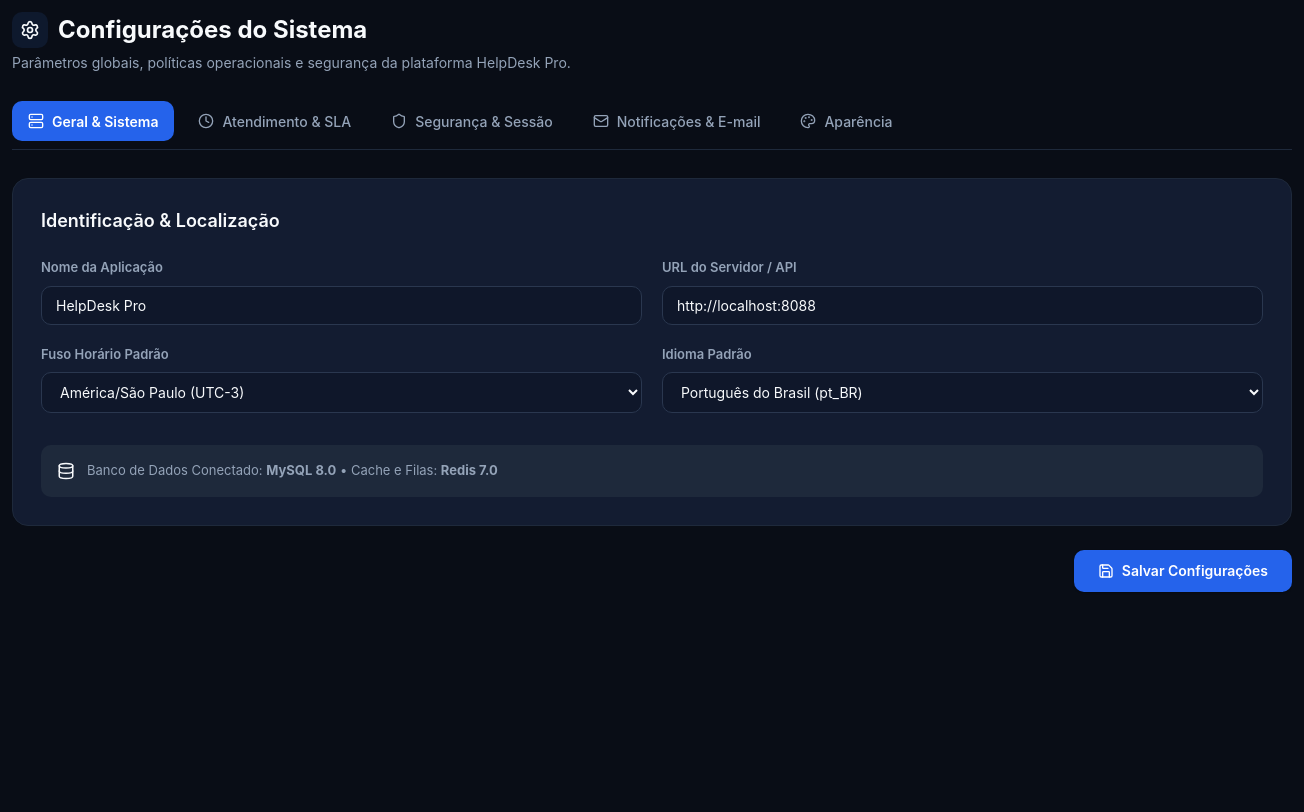
Scenario: SettingsPage › permite alternar entre as abas de configuração
# Alterna para Atendimento & SLA
Click the button "Atendimento & SLA" at {"x": 275, "y": 121}, box x1=182 y1=101 x2=367 y2=141
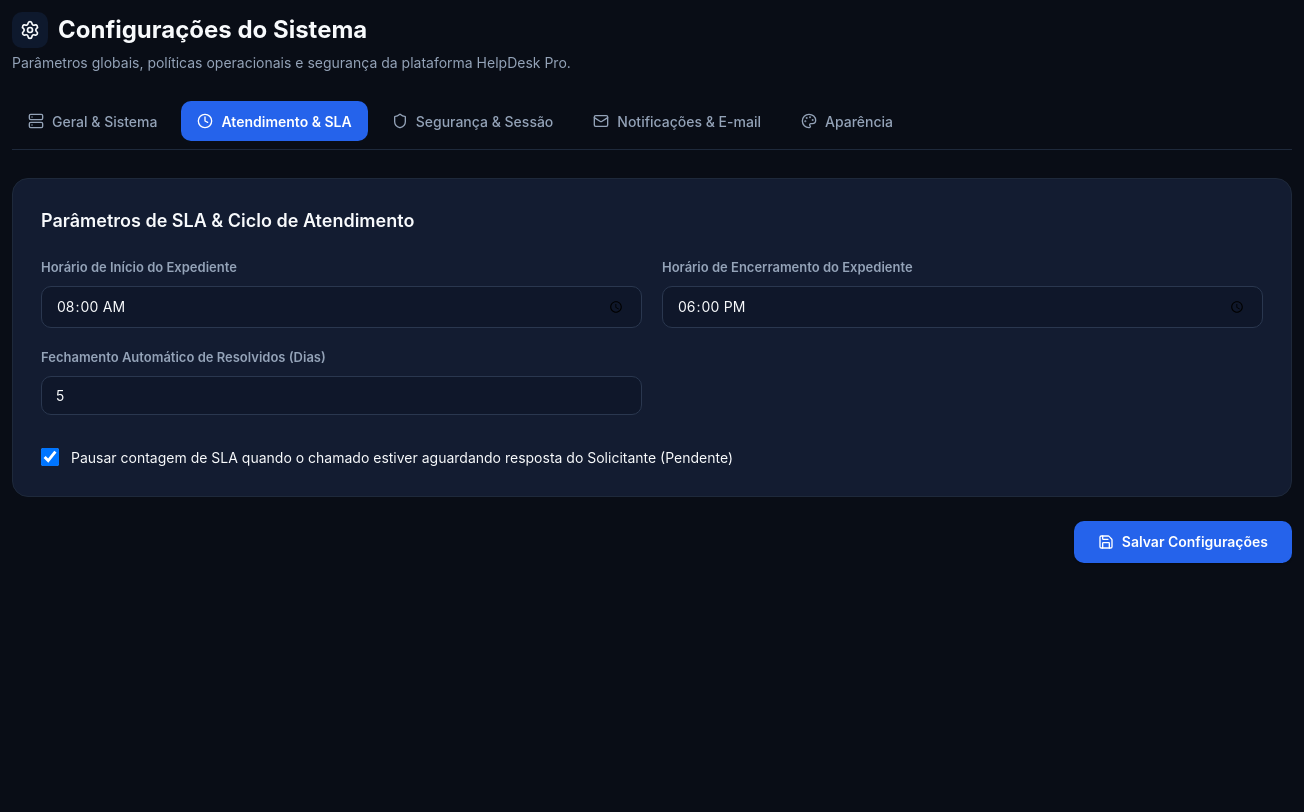
Expected: the heading "Parâmetros de SLA & Ciclo de Atendimento" is shown, x1=41 y1=210 x2=414 y2=231
Expected: the time field showing "08:00" below "Horário de Início do Expediente" is shown, x1=41 y1=286 x2=642 y2=328
Expected: the time field showing "18:00" below "Horário de Encerramento do Expediente" is shown, x1=662 y1=286 x2=1263 y2=328
# Alterna para Segurança & Sessão
Click the button "Segurança & Sessão" at {"x": 472, "y": 121}, box x1=376 y1=101 x2=569 y2=141
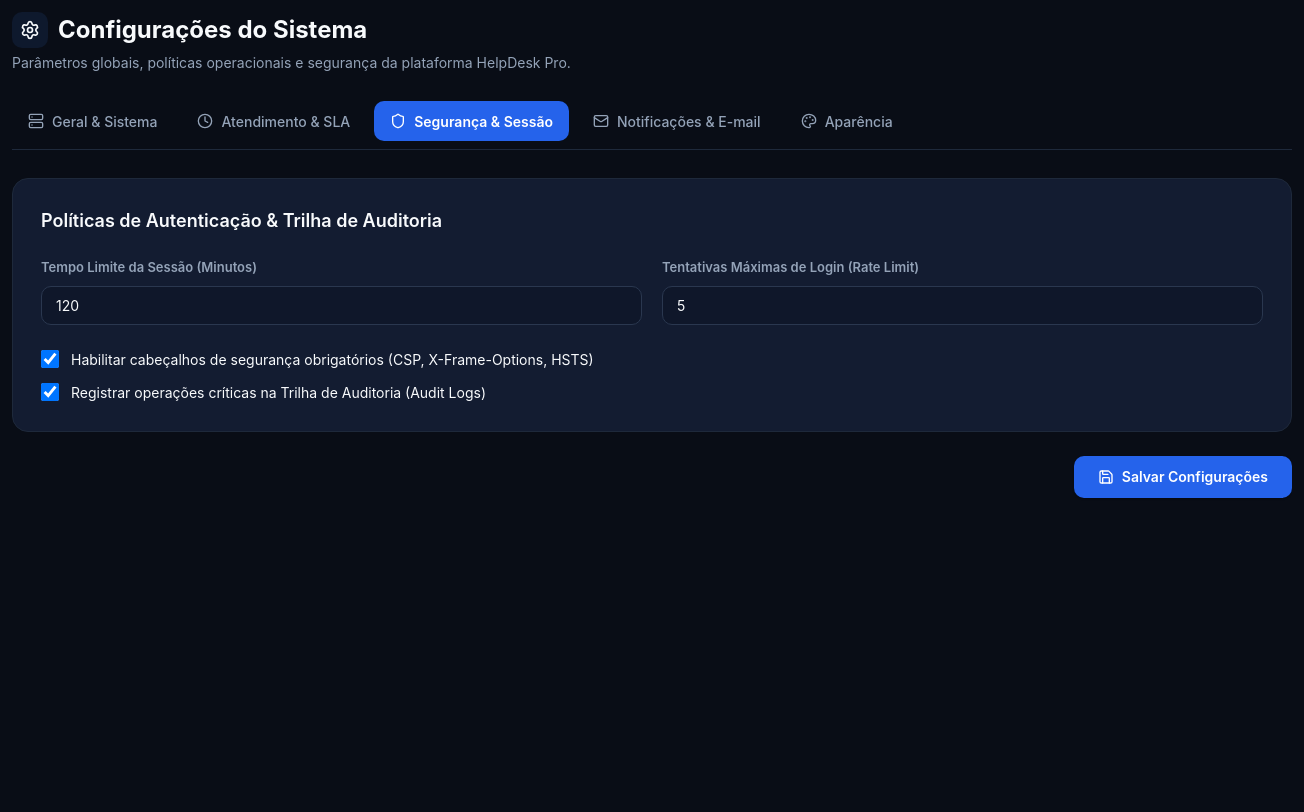
Expected: the heading "Políticas de Autenticação & Trilha de Auditoria" is shown, x1=41 y1=210 x2=442 y2=231
Expected: the number field showing "120" below "Tempo Limite da Sessão (Minutos)" is shown, x1=41 y1=286 x2=642 y2=324
# Alterna para Notificações & E-mail
Click the button "Notificações & E-mail" at {"x": 677, "y": 121}, box x1=577 y1=101 x2=777 y2=141
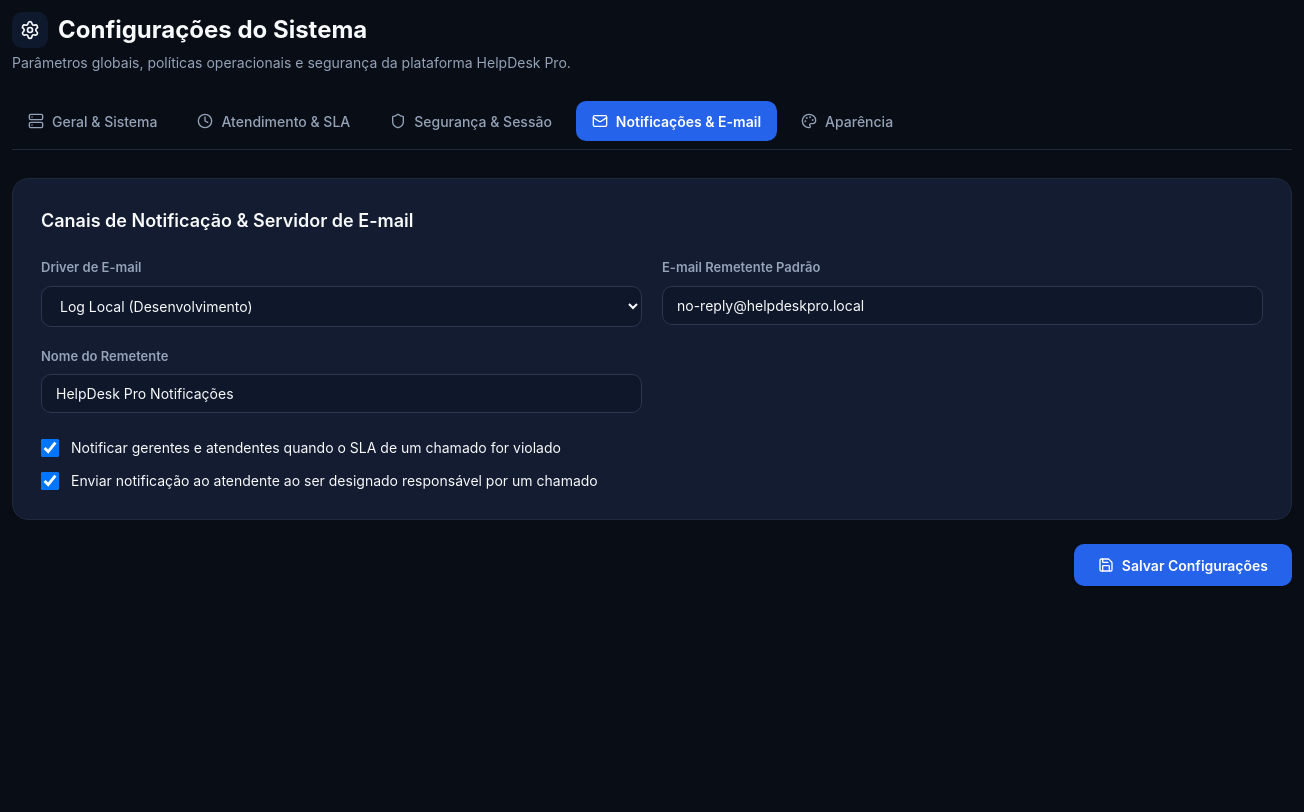
Expected: the heading "Canais de Notificação & Servidor de E-mail" is shown, x1=41 y1=210 x2=414 y2=231
Expected: the field showing "no-reply@helpdeskpro.local" below "E-mail Remetente Padrão" is shown, x1=662 y1=286 x2=1263 y2=324
# Alterna para Aparência
Click the button "Aparência" at {"x": 847, "y": 121}, box x1=785 y1=101 x2=909 y2=141
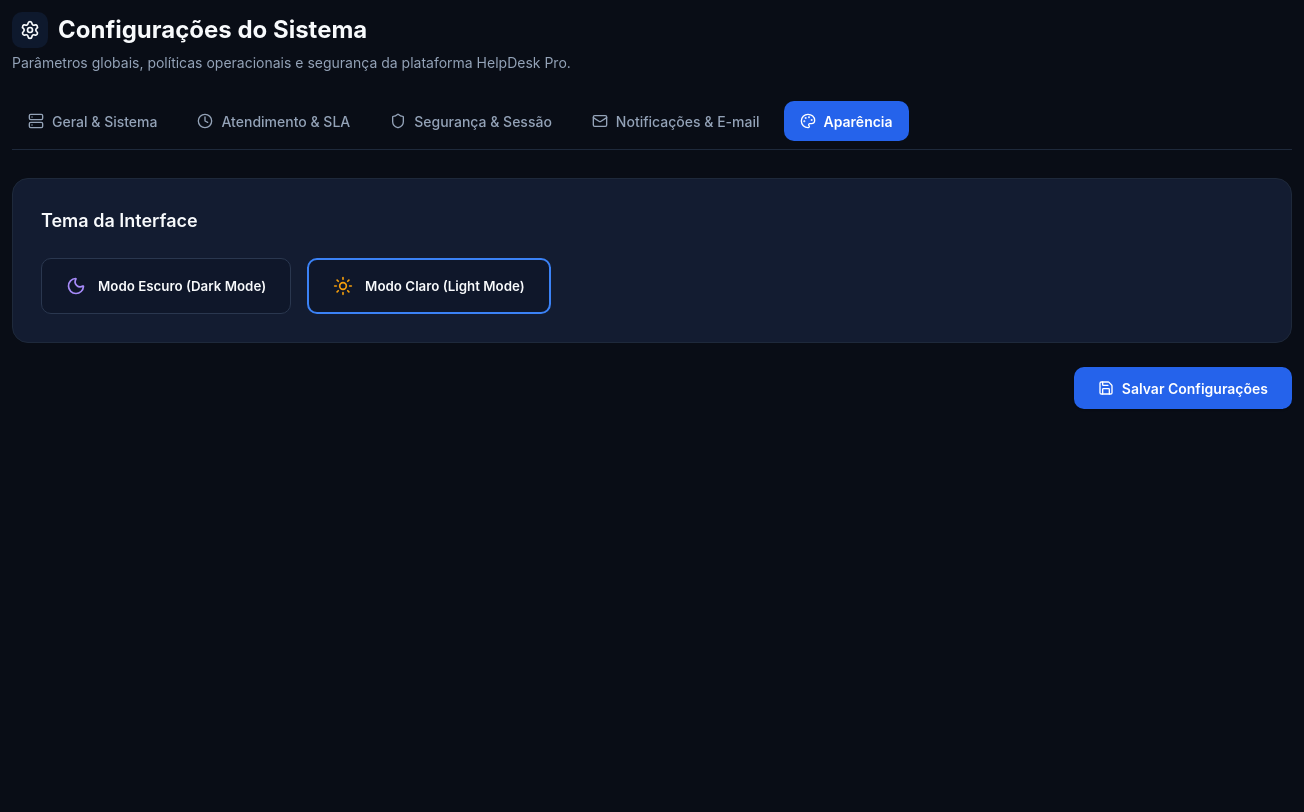
Expected: the heading "Tema da Interface" is shown, x1=41 y1=210 x2=198 y2=231
